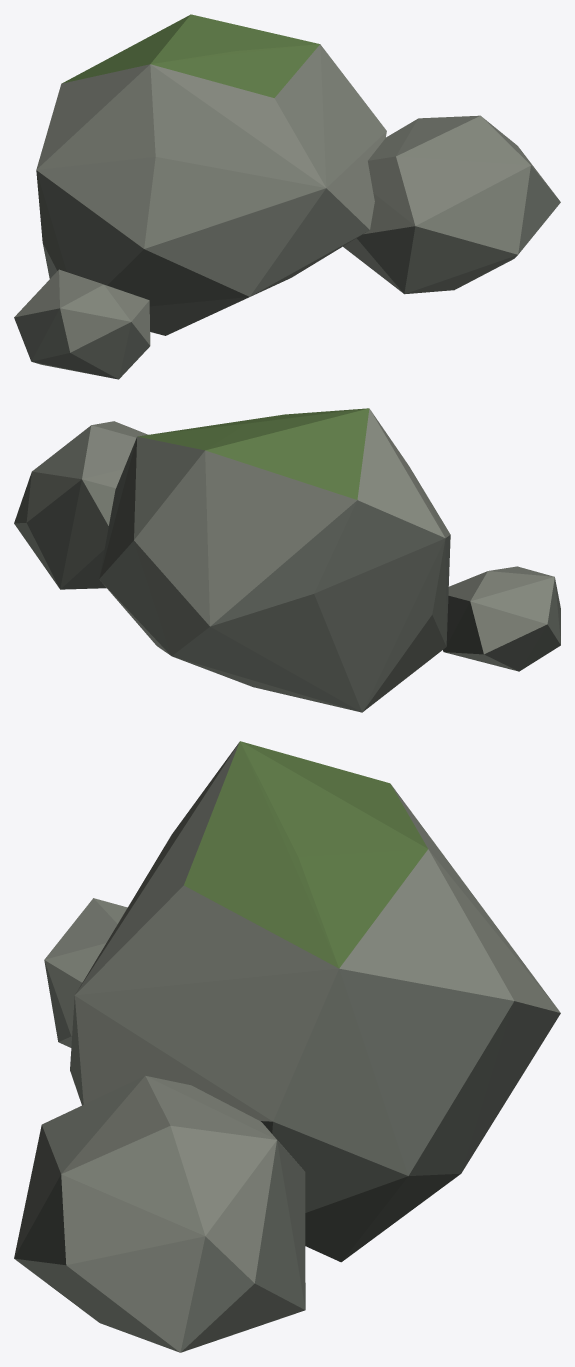
The model's file is rock_cluster.glb.
3 renders of one model, top to bottom at view 1: azimuth 30°, elevation 25°; view 2: azimuth 150°, elevation 25°; view 3: azimuth 270°, elevation 25°, orthographic. The views are drawn at different scales.
Visible parts, largest first — view 1: RockCluster / RockLight, RockCluster / Rock, RockCluster / Moss; view 2: RockCluster / Rock, RockCluster / RockLight, RockCluster / Moss; view 3: RockCluster / RockLight, RockCluster / Rock, RockCluster / Moss.
Part boxes in pixels (x1,y1,x2,y2): RockCluster / RockLight: (14,44,558,352); RockCluster / Rock: (14,166,560,379); RockCluster / Moss: (62,14,319,97); RockCluster / Rock: (14,437,560,712); RockCluster / RockLight: (26,408,554,654); RockCluster / Moss: (138,408,369,499); RockCluster / RockLight: (14,742,560,1352); RockCluster / Rock: (14,961,560,1352); RockCluster / Moss: (184,741,427,968).
Bounding box in the file's own units: 3.07 × 1.42 × 1.81.
